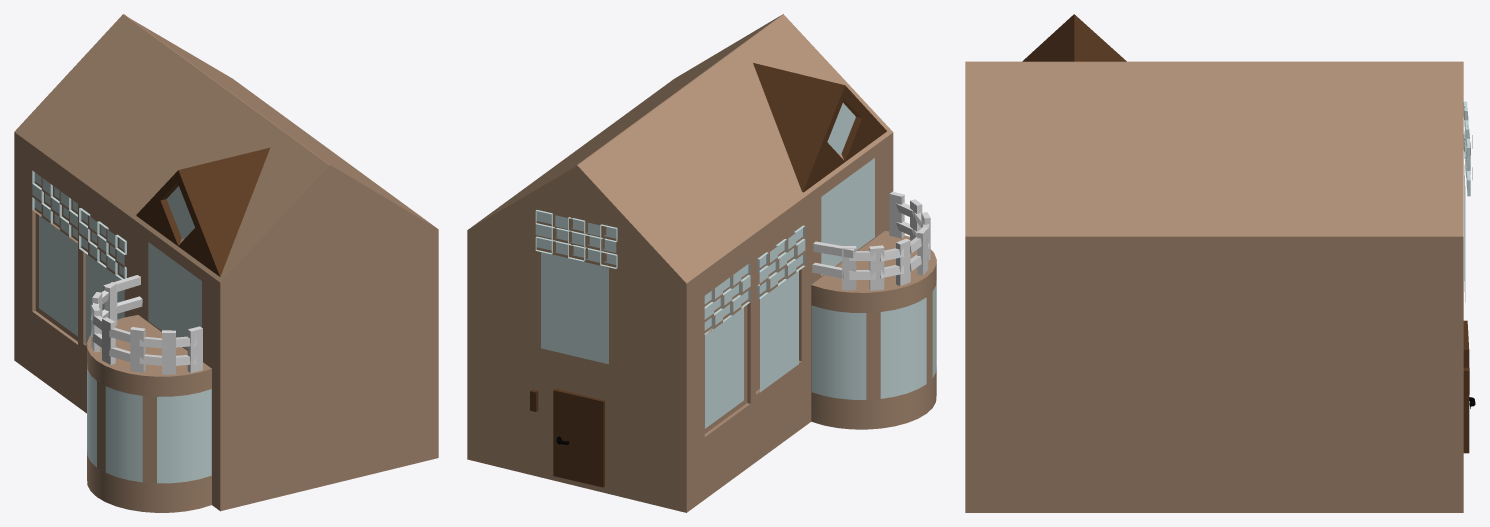
The model's file is huisboer.fbx.
3 renders of one model, left to right at view 1: azimuth 30°, elevation 25°; view 2: azimuth 150°, elevation 25°; view 3: azimuth 270°, elevation 25°, orthographic. The views are drawn at different scales.
Visible parts, largest first — view 1: Cube, Cylinder.001, Cylinder, Cube.001, Cube.011, Cube.006, Cylinder.002, Cube.010, Cube.003, Cube.007, Cube.002, Cube.012 (+3 smaller); view 2: Cube, Cylinder.001, Cylinder, Cube.001, Cube.034, Cube.033, Cube.011, Cube.006, Cube.007, Cube.036, Cylinder.002, Cube.010 (+5 smaller); view 3: Cube, Cube.001, Cube.033.
Part boxes in pixels (x1,y1,x2,y2): Cube: (14, 14, 438, 511); Cylinder.001: (87, 365, 211, 483); Cylinder: (87, 315, 211, 512); Cube.001: (136, 147, 269, 276); Cube.011: (148, 242, 201, 349); Cube.006: (39, 215, 77, 336); Cylinder.002: (97, 381, 156, 483); Cube.010: (79, 208, 126, 279); Cube.003: (32, 170, 77, 238); Cube.007: (85, 253, 124, 346); Cube.002: (166, 186, 194, 239); Cube.012: (187, 326, 202, 372); Cube: (467, 14, 893, 512); Cylinder.001: (811, 280, 936, 399); Cylinder: (811, 231, 936, 429); Cube.001: (753, 63, 886, 192); Cube.034: (541, 252, 608, 364); Cube.033: (553, 388, 604, 487); Cube.011: (821, 158, 874, 275); Cube.006: (705, 307, 743, 428); Cube.007: (760, 271, 798, 392); Cube.036: (535, 210, 617, 268); Cylinder.002: (866, 292, 932, 399); Cube.010: (757, 225, 805, 299); Cube: (965, 61, 1463, 512); Cube.001: (1022, 14, 1126, 61); Cube.033: (1463, 320, 1469, 453).
Size of the model in its own units: 1117 by 1150 by 1376.
